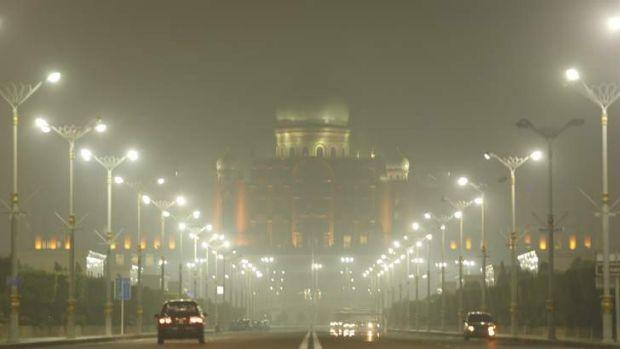car: (153, 298, 206, 342), (463, 310, 497, 341)
